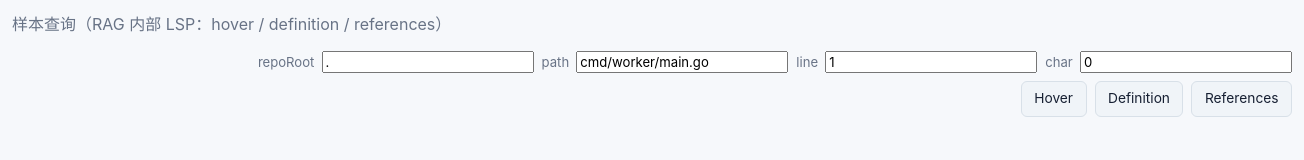
Test: RagLspProbePanel › disables actions when line is below 1 or not an integer
Step 1. Replace the text in the number field with test id "probe-line" with "0" → (931, 62), box [825,51,1037,73]
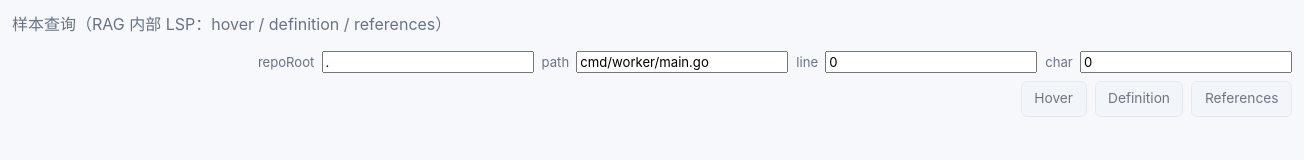
Now the button with test id "probe-hover" is disabled, box [1021,81,1086,117]
Step 2. Replace the text in the number field with test id "probe-line" with "-1" → (931, 62), box [825,51,1037,73]
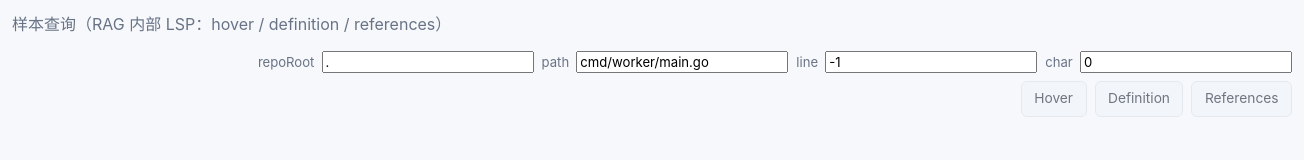
Now the button with test id "probe-hover" is disabled, box [1021,81,1086,117]
Step 3. Replace the text in the number field with test id "probe-line" with "1.5" → (931, 62), box [825,51,1037,73]
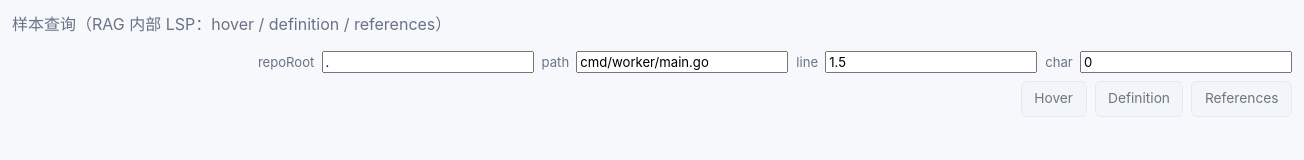
Now the button with test id "probe-hover" is disabled, box [1021,81,1086,117]
Step 4. Replace the text in the number field with test id "probe-line" with "10" → (931, 62), box [825,51,1037,73]
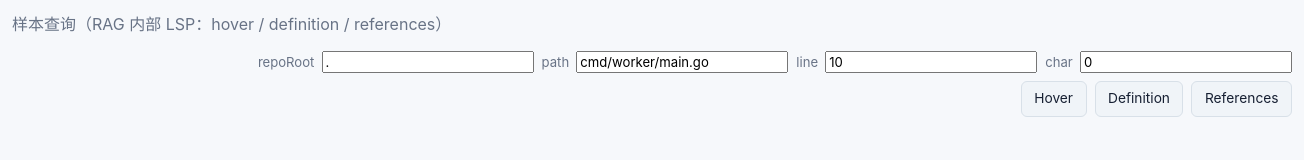
Now the button with test id "probe-hover" is enabled, box [1021,81,1086,117]
